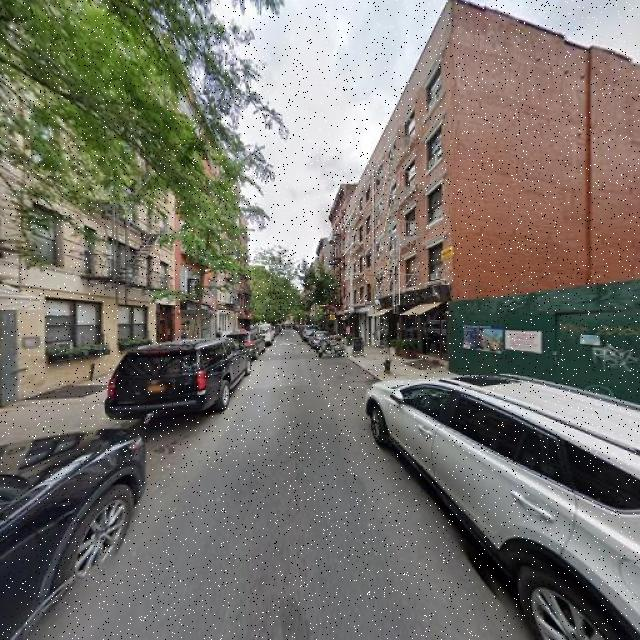Building: (344, 4, 640, 372), (4, 1, 173, 397)
